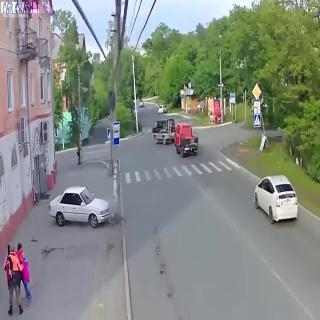normal: (44, 183, 126, 236)
